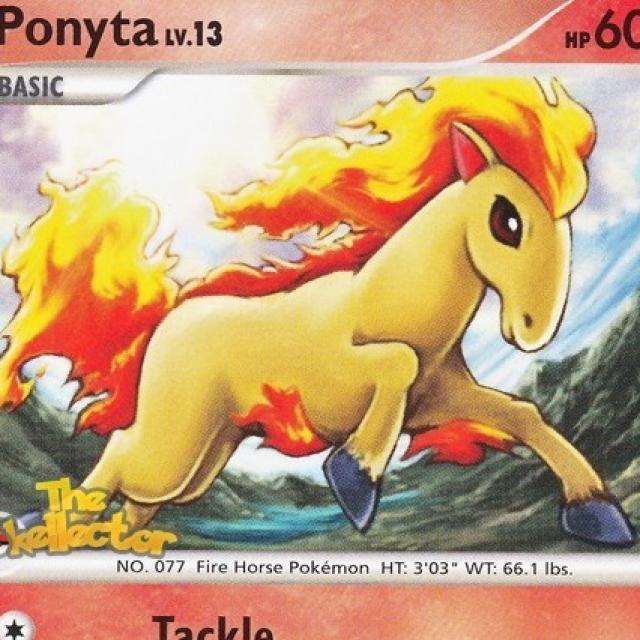Ponyta: (93, 118, 582, 525)
